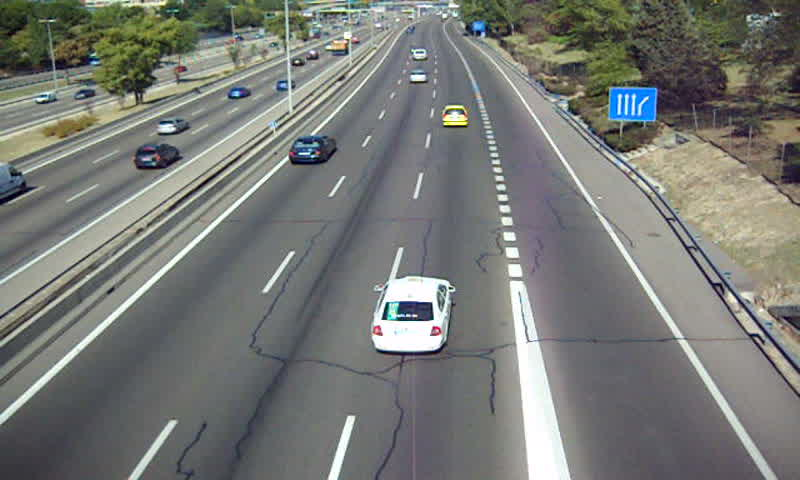car: (370, 276, 453, 352), (287, 137, 334, 163), (442, 105, 469, 130), (409, 68, 428, 84)
